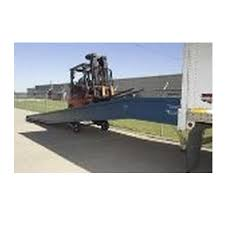Pallet Jack: (67, 53, 115, 107)
Yard Ramp: (26, 96, 182, 126)
